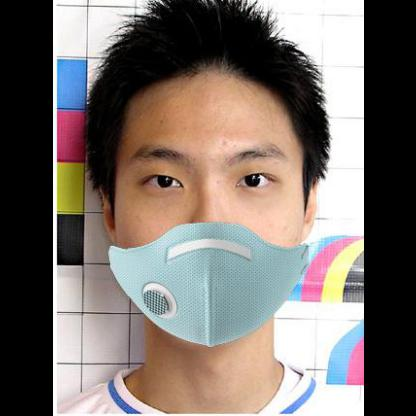FFP Mask: (98, 92, 304, 350)
